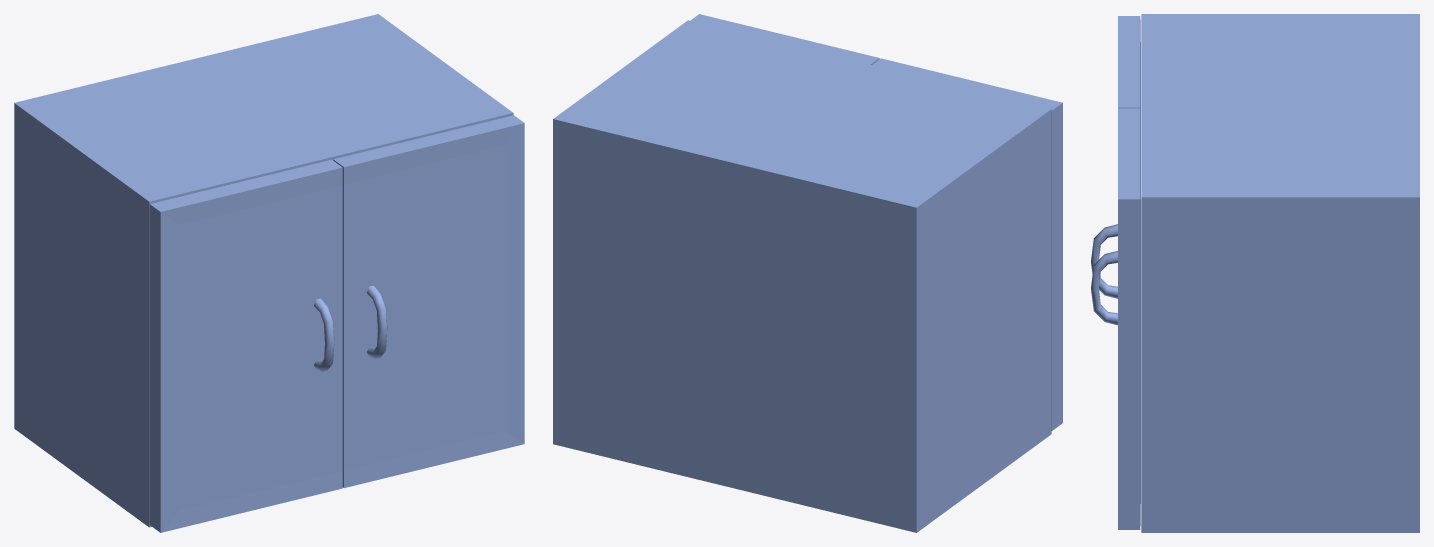
File: draw.fbx
3 renders of one model, left to right at view 1: azimuth 30°, elevation 25°; view 2: azimuth 150°, elevation 25°; view 3: azimuth 270°, elevation 25°, orthographic. The views are drawn at different scales.
Parts seen in each view (by area): view 1: Drawer; view 2: Drawer; view 3: Drawer.
Boxes of the visible parts, box(x1,y1,x2,y2) form: Drawer: box(14, 14, 524, 532); Drawer: box(553, 14, 1062, 532); Drawer: box(1091, 14, 1419, 532).
Bounding box in the file's own units: 97.35 × 83.21 × 73.87.
